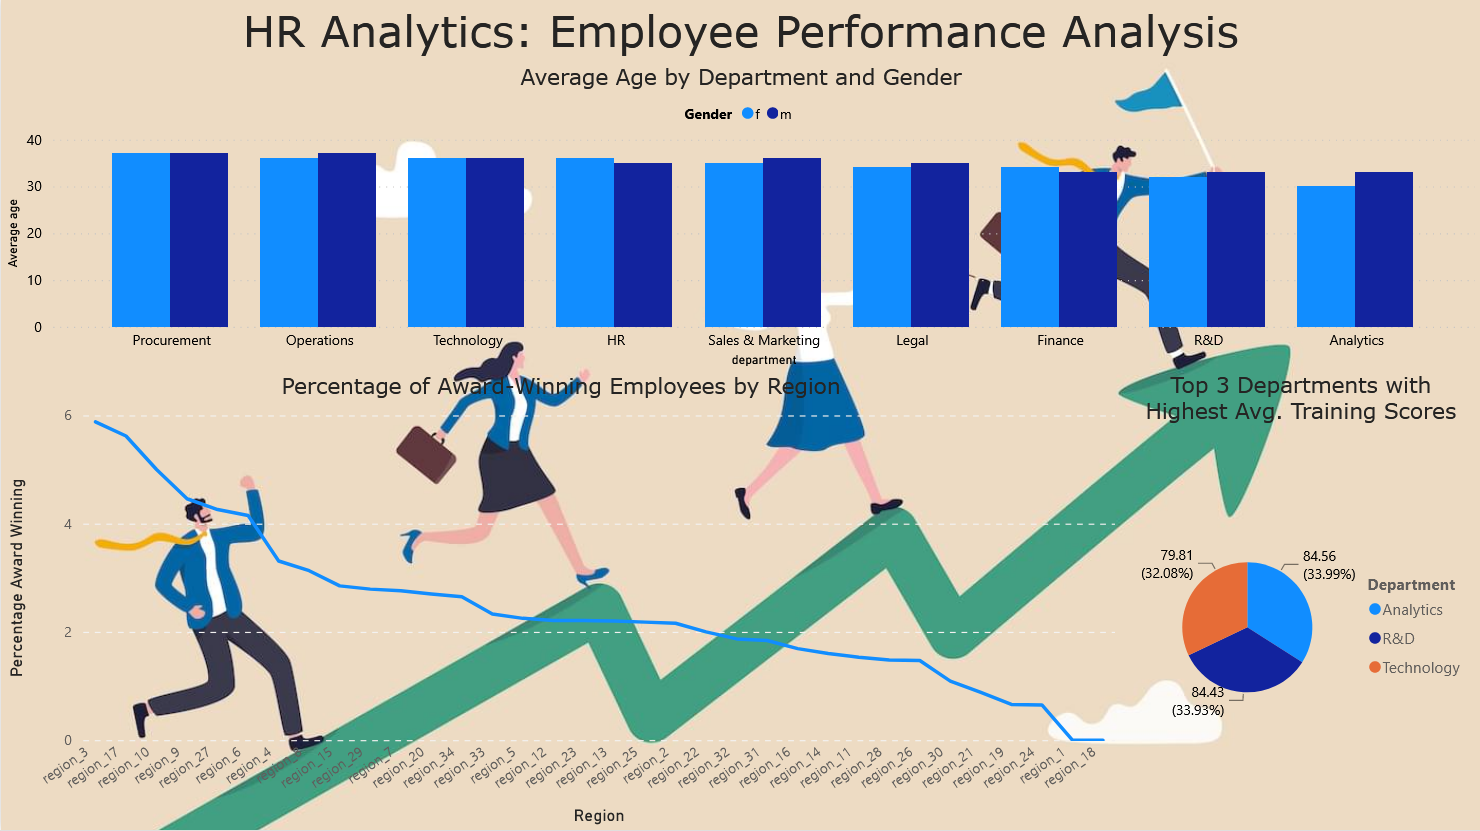

The page's visual inventory and layout, read from the dashboard file:
{"tool":"powerbi","page":{"name":"Page 1","canvas":[1280,720],"ordinal":0},"visuals":[{"type":"clusteredColumnChart","title":"Average Age by Department and Gender","fields":{"Y":["Sum(1.average_age)"],"Category":["1.department"],"Series":["1.gender"]},"box":[0,57.6,1280.6,266],"z":0},{"type":"textbox","box":[0,0,1280.6,57.6],"z":1},{"type":"pieChart","title":"Top 3 Departments with Highest Avg. Training Scores","fields":{"Category":["2.department"],"Y":["Sum(2.average_training_score)"]},"box":[969.3,323.6,311.2,396.2],"z":2},{"type":"lineChart","title":"Percentage of Award-Winning Employees by Region","fields":{"Category":["3.region"],"Y":["Sum(3.percentage_award_winning)"]},"box":[0,324,969,396],"z":3}]}

Visuals, with their boxes in screenshot pixels (x1, y1, x2, y2), scaled from the page's 1280x720 canvas onto the 1480x831 screenshot:
"Average Age by Department and Gender" clusteredColumnChart: 0/66/1479/373
textbox: 0/0/1479/66
"Top 3 Departments with Highest Avg. Training Scores" pieChart: 1121/373/1479/830
"Percentage of Award-Winning Employees by Region" lineChart: 0/374/1120/830
